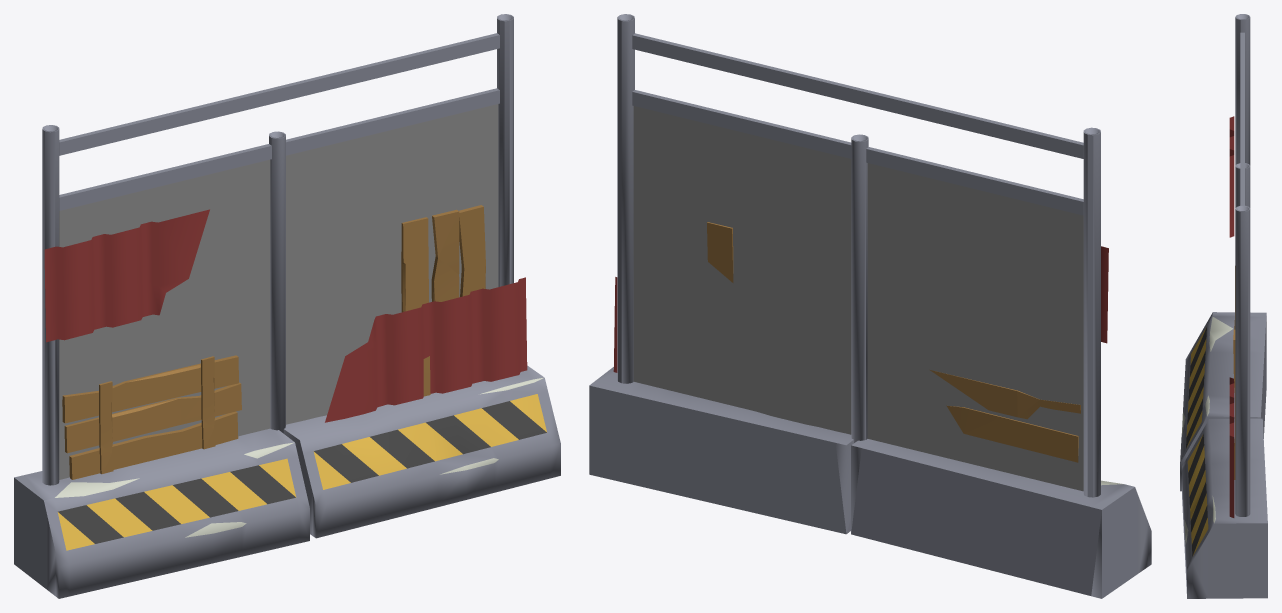
Rendered from barrier-fixed.glb.
3 views of the same model, side by side, from view 1: azimuth 30°, elevation 25°; view 2: azimuth 150°, elevation 25°; view 3: azimuth 270°, elevation 25° (orthographic). The views are drawn at different scales.
Parts seen in each view (by area): view 1: barrier-fixed; view 2: barrier-fixed; view 3: barrier-fixed.
Part boxes in pixels (left/top/right/bottom): barrier-fixed: left=14, top=14, right=560, bottom=598; barrier-fixed: left=589, top=14, right=1151, bottom=598; barrier-fixed: left=1180, top=14, right=1267, bottom=598.
Bounding box in the file's own units: 1.5 × 1.25 × 0.2628.
